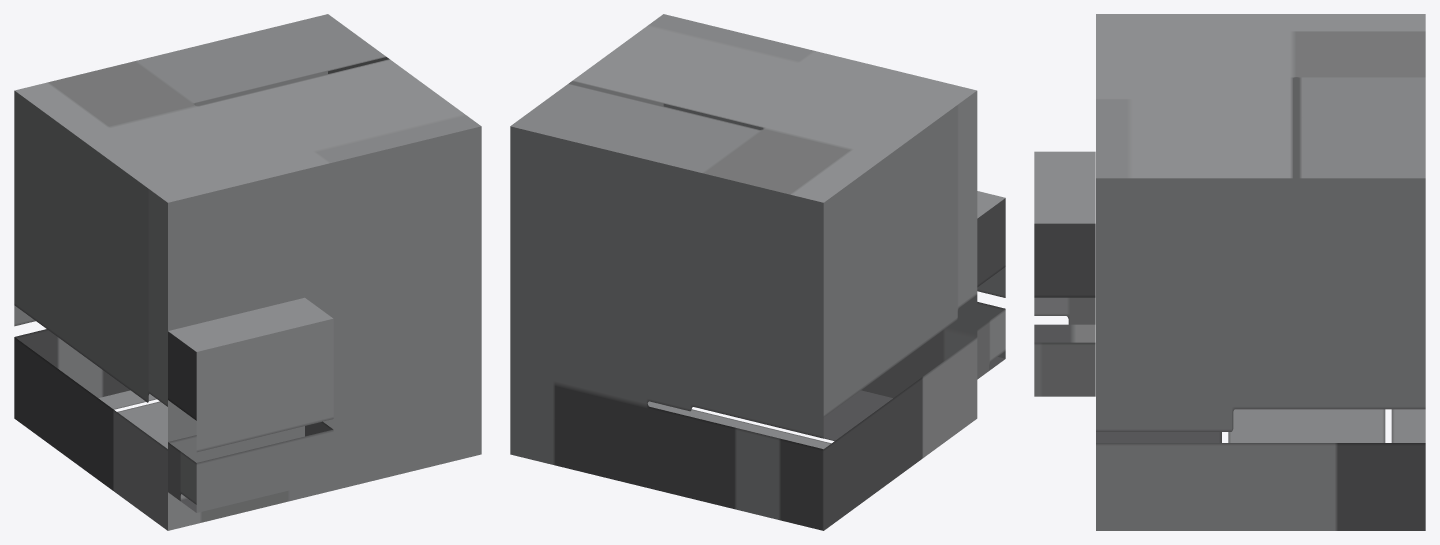
3 renders of one model, left to right at view 1: azimuth 30°, elevation 25°; view 2: azimuth 150°, elevation 25°; view 3: azimuth 270°, elevation 25°, orthographic. The views are drawn at different scales.
Size of the model in its own units: 0.88 by 0.88 by 0.885.
